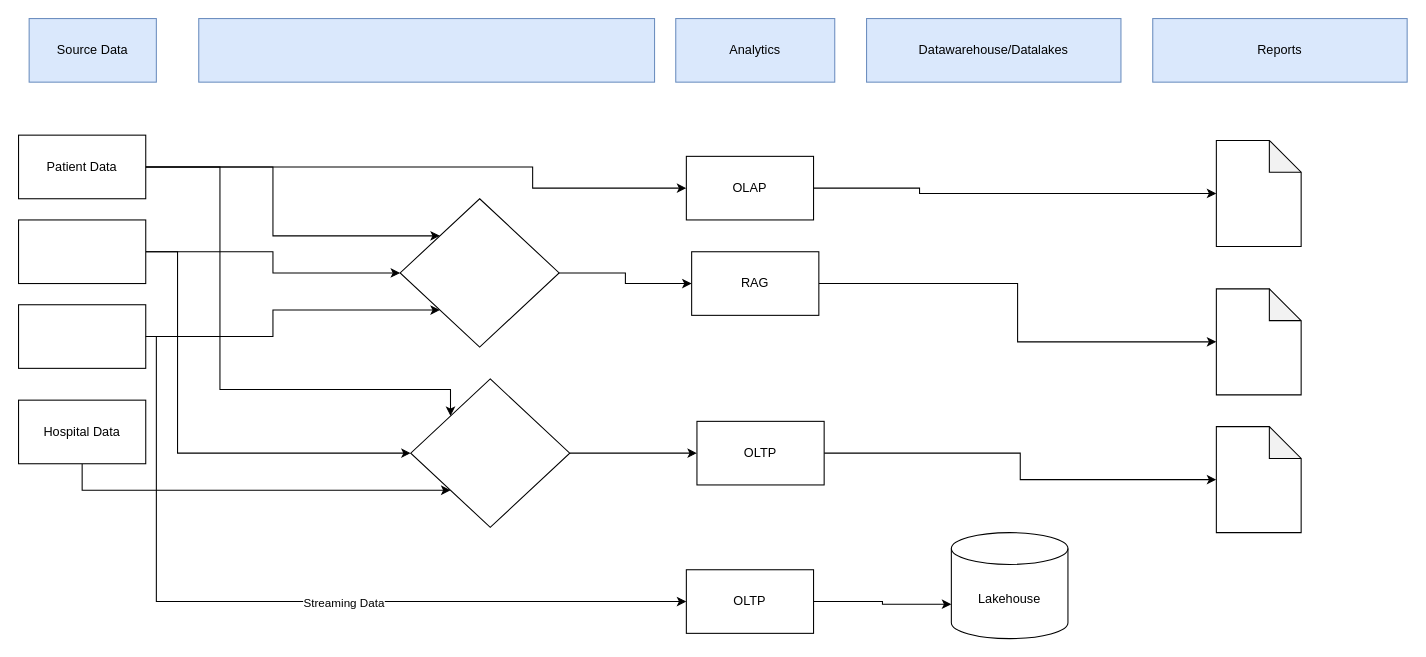
Image size: 1426x657. Some labels were removed from this diagram. Here are the shapes that lost their labels. From the top down, the centre of each, then its label:
the point at 426,49: Transformation Layer
the point at 1258,192: Patient Readmission Report
the point at 81,251: Medicine Data
the point at 81,336: ICU Data
the point at 1258,341: Doctor Ai Search
the point at 1258,479: Monthly Report
